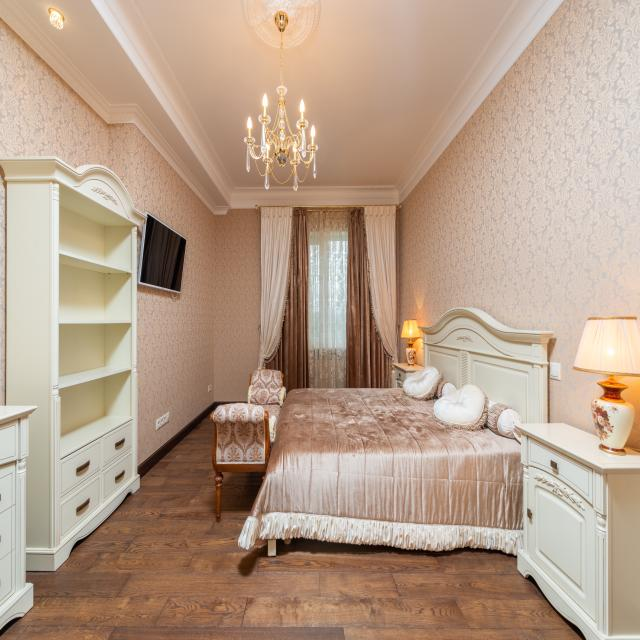floor: (0, 411, 586, 640)
wall: (397, 0, 640, 437), (134, 123, 215, 480), (0, 18, 108, 169), (214, 209, 261, 410), (107, 123, 135, 207), (0, 165, 7, 406), (395, 207, 399, 328)
